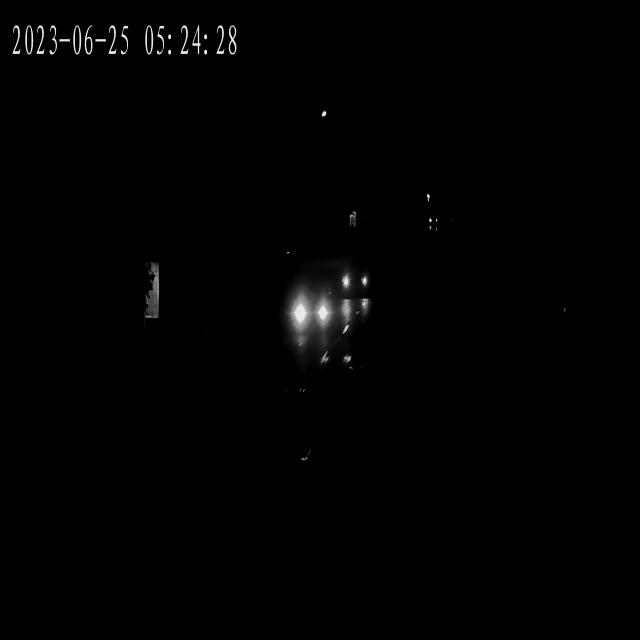Car: (289, 274, 339, 342), (340, 255, 376, 304)
